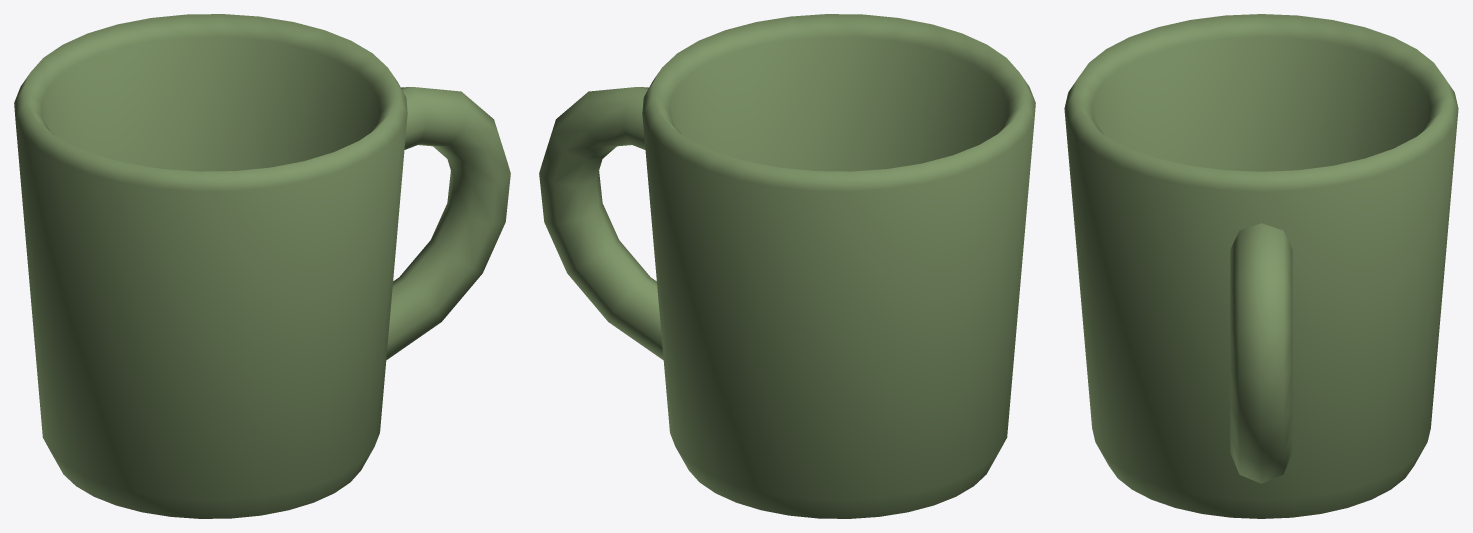
Rendered from PR_Mug.glb.
The picture shows the model from 3 angles, left to right: view 1: azimuth 30°, elevation 25°; view 2: azimuth 150°, elevation 25°; view 3: azimuth 270°, elevation 25°; orthographic projection.
Parts seen in each view (by area): view 1: PR_Mug_LOD0; view 2: PR_Mug_LOD0; view 3: PR_Mug_LOD0.
Boxes of the visible parts, left/top/right/bottom form: PR_Mug_LOD0: left=14, top=14, right=510, bottom=518; PR_Mug_LOD0: left=539, top=14, right=1035, bottom=518; PR_Mug_LOD0: left=1064, top=14, right=1458, bottom=518.
Size of the model in its own units: 0.1561 by 0.115 by 0.114.
1 material, 1 textured.
